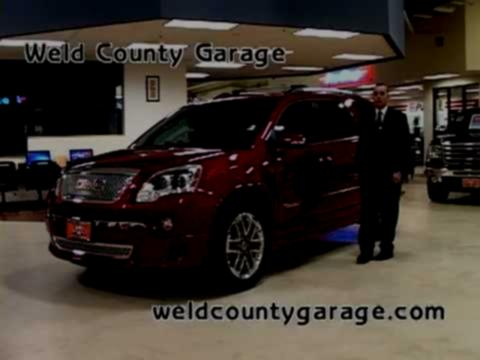GMC: (69, 174, 115, 194)
